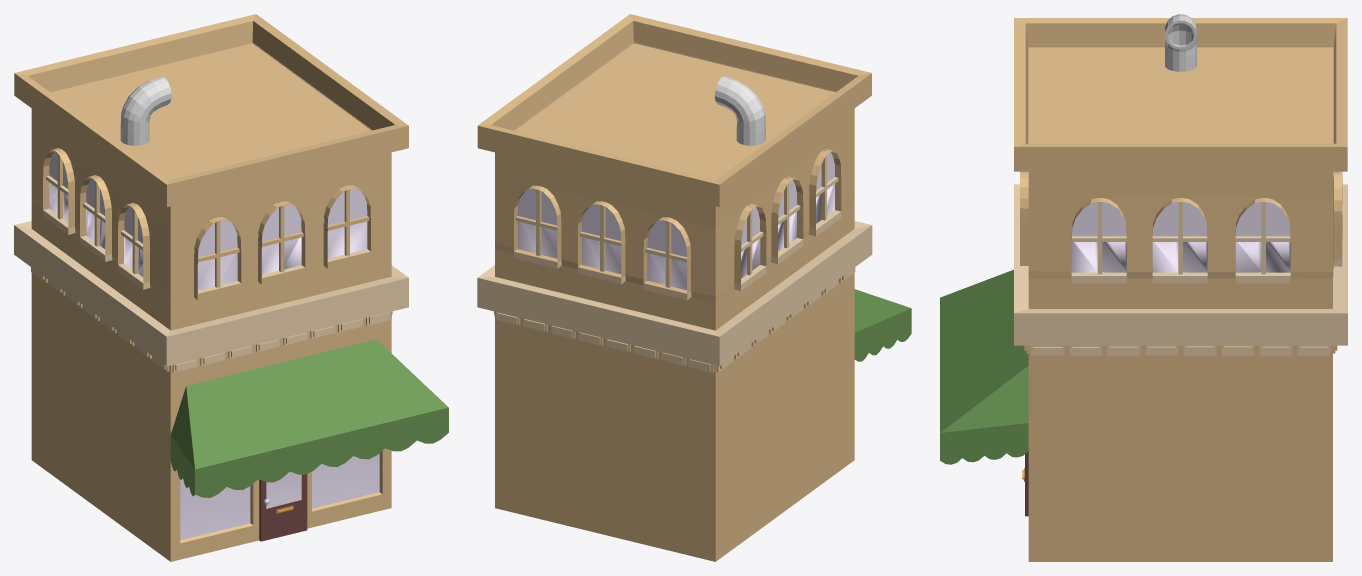
File: Restaurant Final.fbx
The picture shows the model from 3 angles, left to right: view 1: azimuth 30°, elevation 25°; view 2: azimuth 150°, elevation 25°; view 3: azimuth 270°, elevation 25°; orthographic projection. The views are drawn at different scales.
Visible parts, largest first — view 1: Cube.011; view 2: Cube.011; view 3: Cube.011.
Boxes of the visible parts, x1,y1,x2,y2 form: Cube.011: [14, 14, 448, 561]; Cube.011: [477, 14, 911, 561]; Cube.011: [940, 14, 1347, 561].
Bounding box in the file's own units: 2520 × 3971 × 3208.
